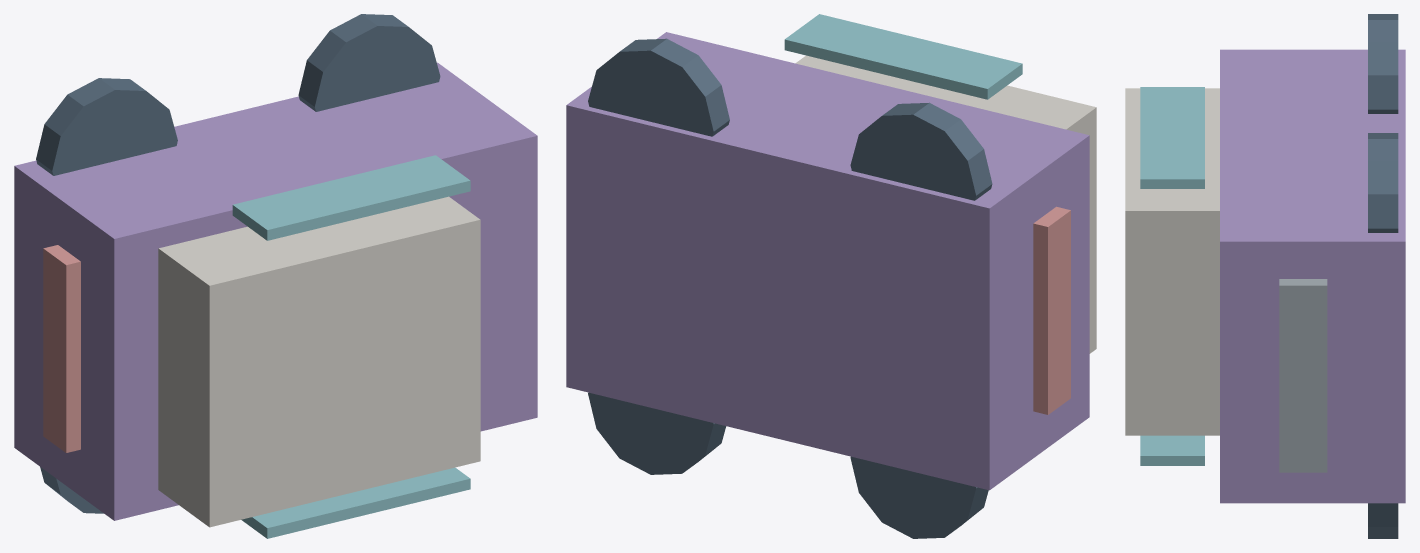
The model's file is taxi_generic.glb.
3 renders of one model, left to right at view 1: azimuth 30°, elevation 25°; view 2: azimuth 150°, elevation 25°; view 3: azimuth 270°, elevation 25°, orthographic. The views are drawn at different scales.
Parts seen in each view (by area): view 1: purple, white, dark, glass, salmon; view 2: purple, dark, glass, salmon, white; view 3: purple, white, metal2, glass, dark.
Part boxes in pixels (bbox=[...]): purple: bbox=[14, 62, 537, 520]; white: bbox=[158, 196, 480, 527]; dark: bbox=[36, 14, 440, 513]; glass: bbox=[232, 155, 470, 538]; salmon: bbox=[43, 245, 80, 452]; purple: bbox=[566, 32, 1089, 490]; dark: bbox=[588, 38, 992, 538]; glass: bbox=[784, 14, 1022, 99]; salmon: bbox=[1033, 206, 1070, 414]; white: bbox=[795, 55, 1096, 353]; purple: bbox=[1220, 49, 1405, 503]; white: bbox=[1125, 88, 1219, 435]; metal2: bbox=[1279, 279, 1327, 472]; glass: bbox=[1140, 87, 1204, 465]; dark: bbox=[1368, 14, 1398, 538].
Bounding box in the file's own units: 3.53 × 3.16 × 2.04.
